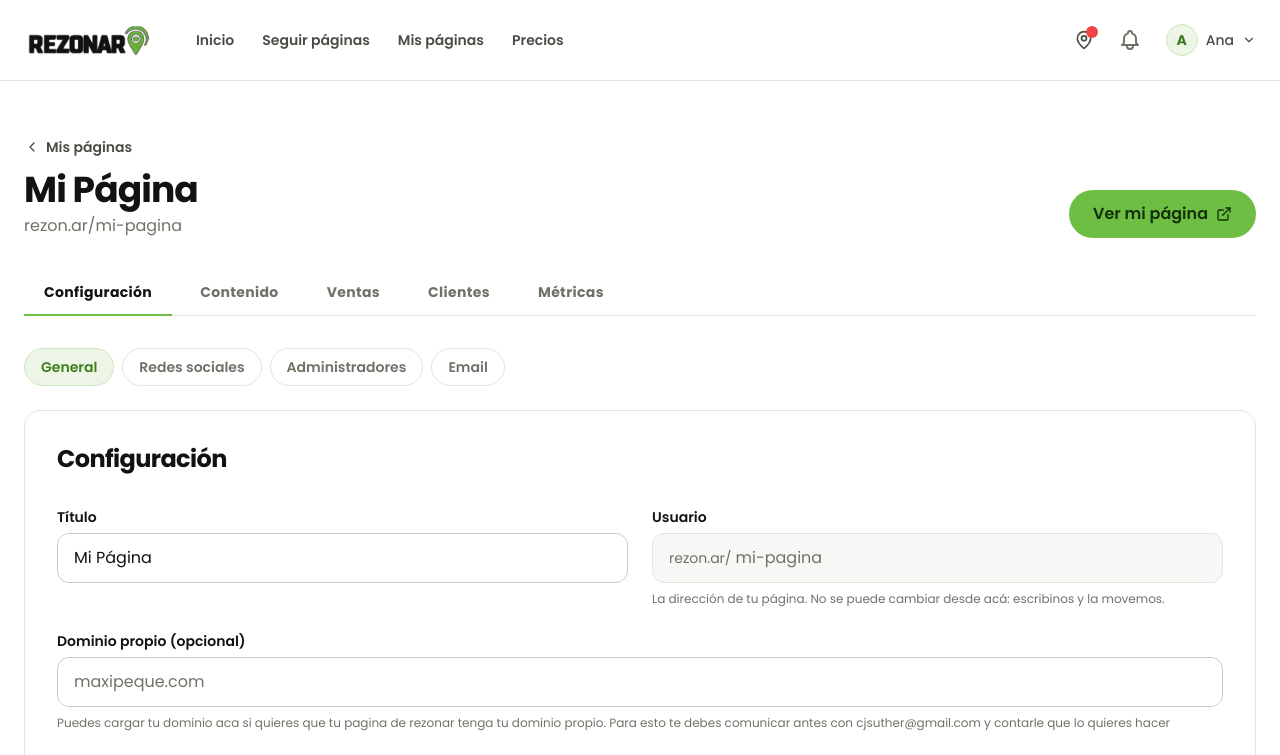
Test: PageEditor › carga › email va después de administradores, dentro de configuración
This screenshot has width=1280, height=755.
Expected: the heading "Mi Página" is shown, [24,170,198,210]
Click the button "Email". click: click(468, 367)
box: [431,348,505,386]
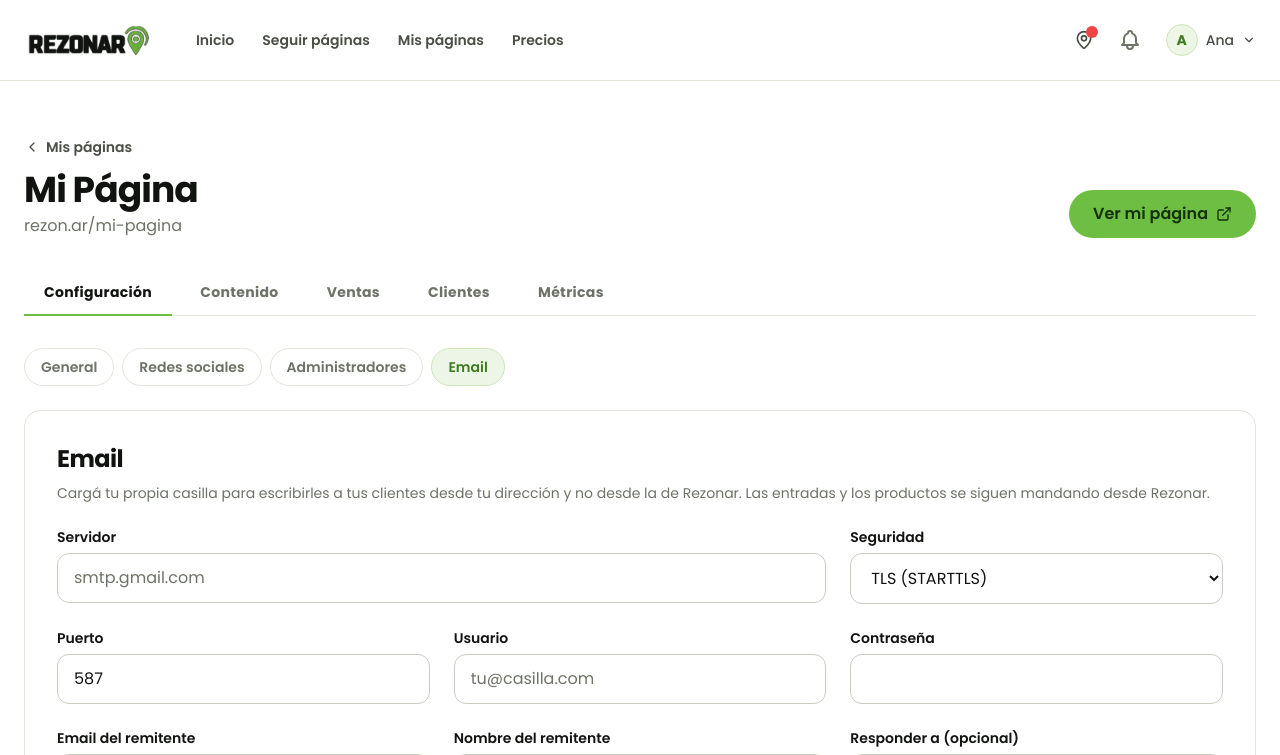
Result: the heading "Email" is shown at [57,442,123,475]
